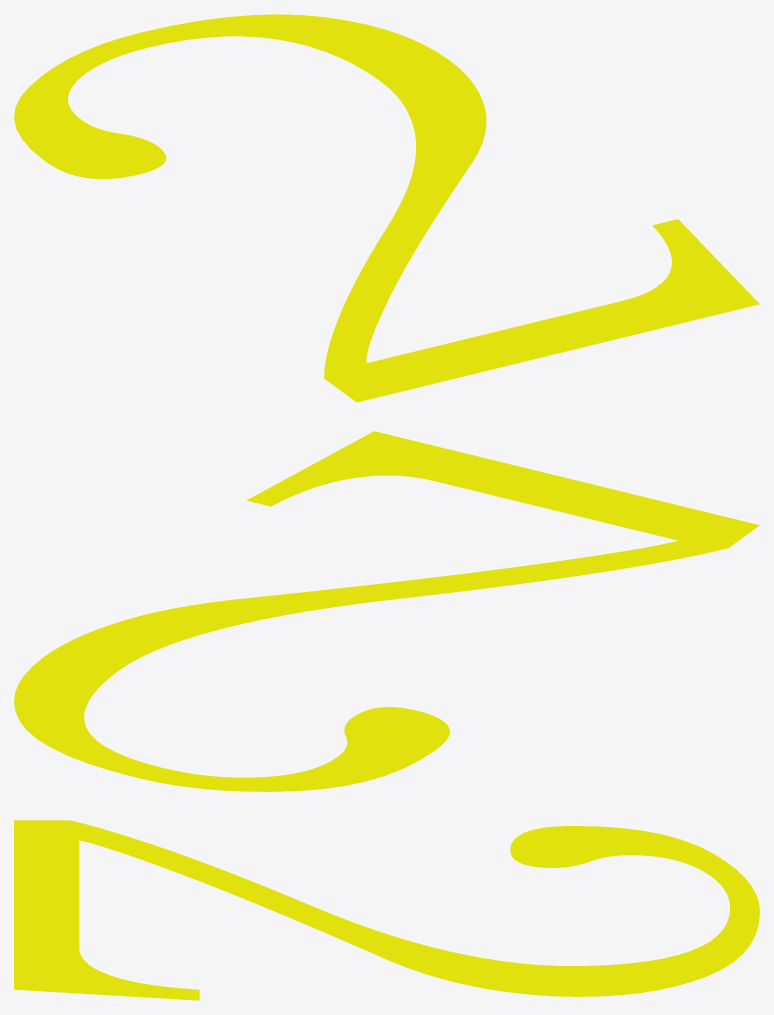
3 renders of one model, top to bottom at view 1: azimuth 30°, elevation 25°; view 2: azimuth 150°, elevation 25°; view 3: azimuth 270°, elevation 25°, orthographic. The views are drawn at different scales.
Visible parts, largest first — view 1: Text001; view 2: Text001; view 3: Text001.
Part boxes in pixels (box(x1,y1,x2,y2)): Text001: box(14, 14, 759, 402); Text001: box(14, 431, 759, 791); Text001: box(14, 820, 759, 1000).
Bounding box in the file's own units: 19.3 × 2.07e-15 × 33.75.
